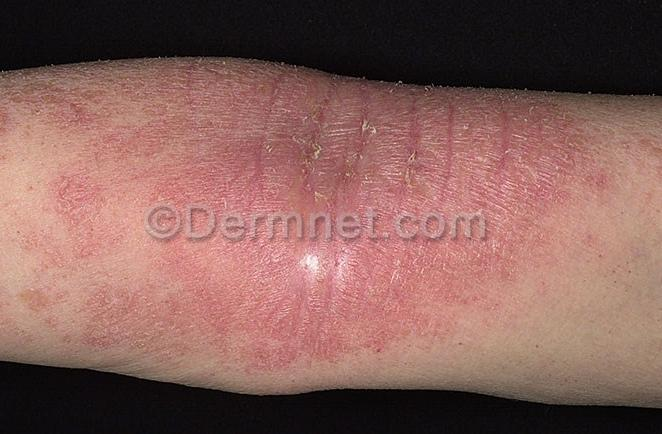eritema 3: (110, 55, 577, 347)
xerosis 3: (0, 49, 583, 220)
